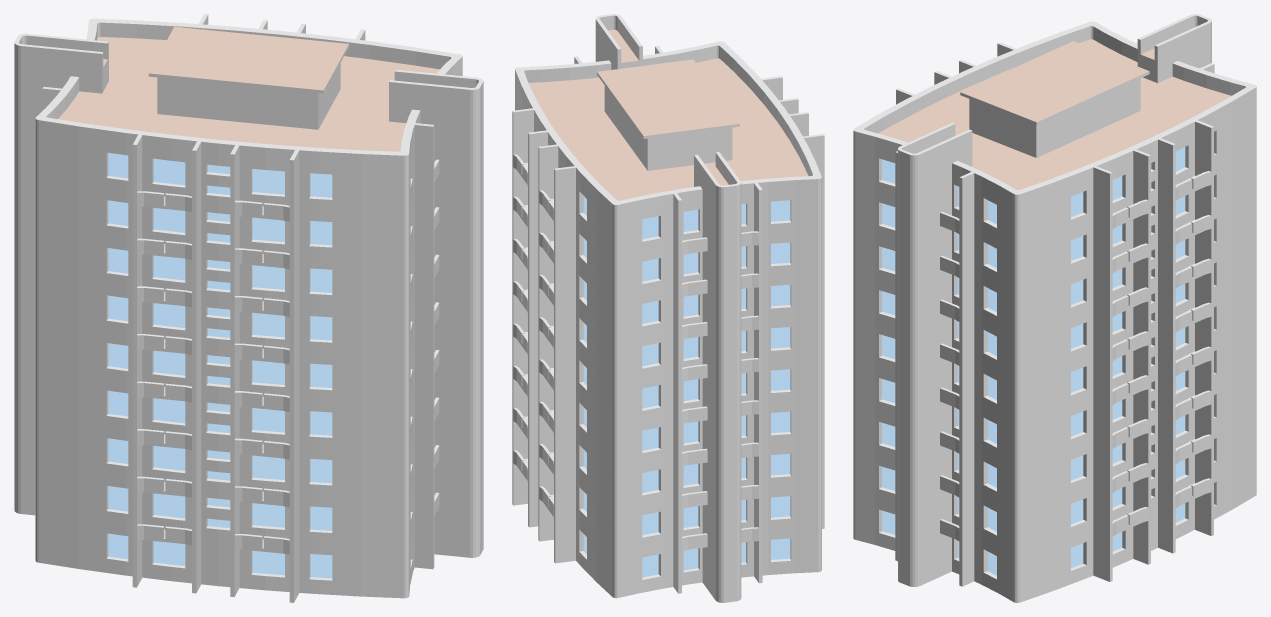
File: zhandosova-saina6.glb
3 views of the same model, side by side, from view 1: azimuth 30°, elevation 25°; view 2: azimuth 150°, elevation 25°; view 3: azimuth 270°, elevation 25° (orthographic). The views are drawn at different scales.
Visible parts, largest first — view 1: wall, walls, window, roof; view 2: wall, walls, roof, window; view 3: wall, walls, roof, window.
Boxes of the visible parts, box(x1,y1,x2,y2) form: wall: box(14, 15, 483, 602); walls: box(14, 14, 483, 602); window: box(108, 153, 332, 578); roof: box(58, 26, 439, 151); wall: box(513, 15, 824, 602); walls: box(512, 14, 824, 593); roof: box(528, 29, 808, 200); window: box(583, 196, 790, 577); wall: box(853, 15, 1256, 602); walls: box(853, 14, 1256, 586); roof: box(878, 39, 1231, 189); window: box(882, 147, 1185, 575).
Size of the model in its own units: 25.39 by 29.7 by 24.99.
